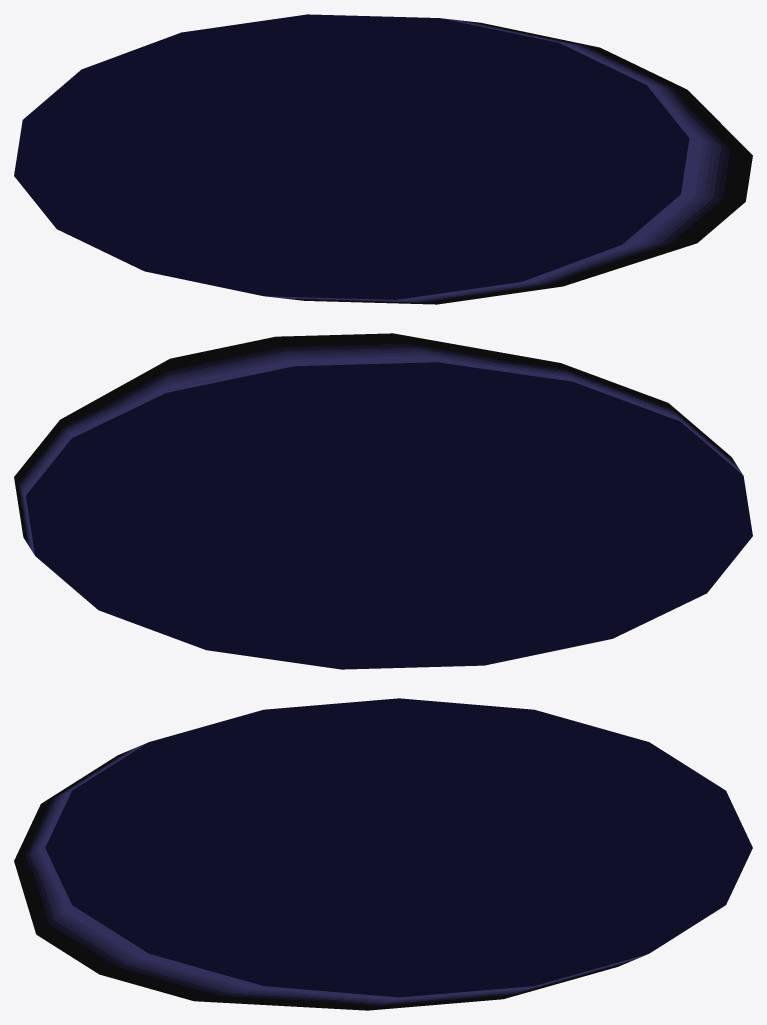
3 renders of one model, top to bottom at view 1: azimuth 30°, elevation 25°; view 2: azimuth 150°, elevation 25°; view 3: azimuth 270°, elevation 25°, orthographic. The views are drawn at different scales.
Parts seen in each view (by area): view 1: Joint_0_Object_0; view 2: Joint_0_Object_0; view 3: Joint_0_Object_0.
Boxes of the visible parts, x1,y1,x2,y2 form: Joint_0_Object_0: [14, 14, 752, 304]; Joint_0_Object_0: [14, 333, 752, 669]; Joint_0_Object_0: [14, 698, 752, 1010].
Bounding box in the file's own units: 1184 × 0 × 1184.
Materials: 1 (1 with a texture image).
